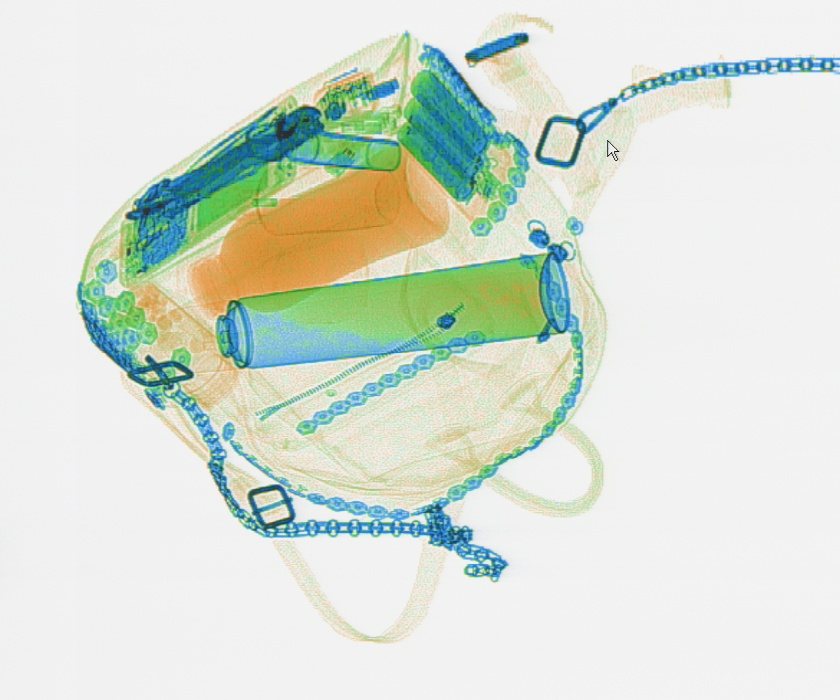knife: (124, 103, 325, 223)
powerbank: (394, 67, 513, 221)
pressure: (158, 249, 569, 374)
